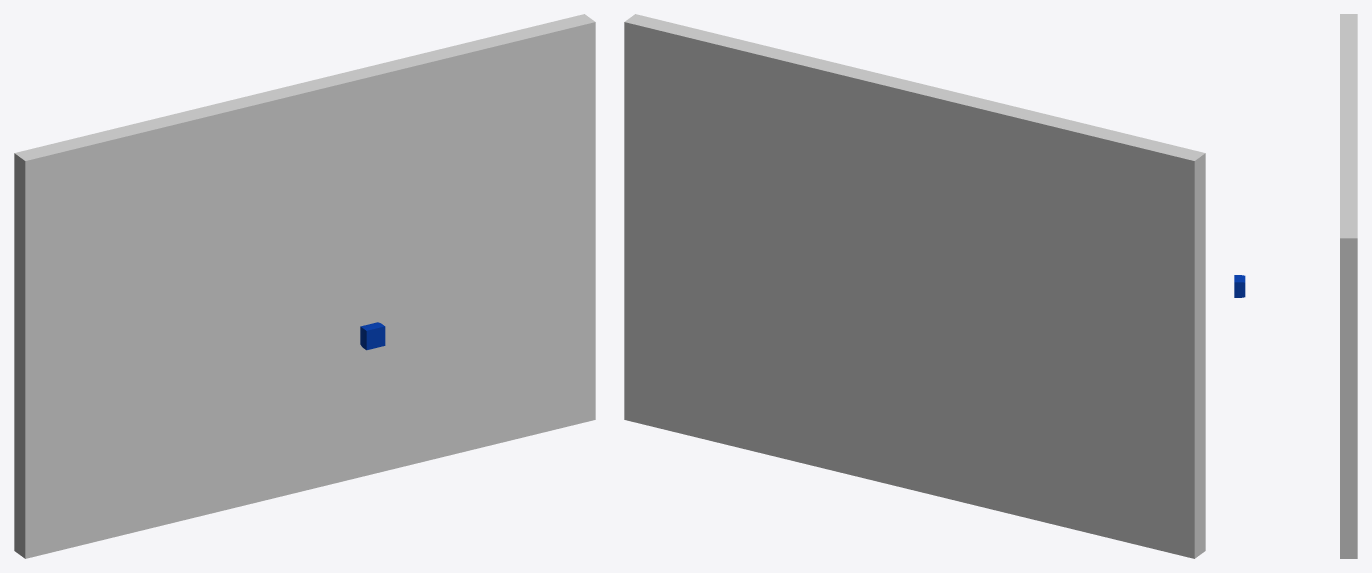
The model's file is Dashboard.gltf.
The picture shows the model from 3 angles, left to right: view 1: azimuth 30°, elevation 25°; view 2: azimuth 150°, elevation 25°; view 3: azimuth 270°, elevation 25°; orthographic projection. The views are drawn at different scales.
Visible parts, largest first — view 1: Dashboard.001; view 2: Dashboard.001; view 3: Dashboard.001, dataport.
Boxes of the visible parts, <box> form: Dashboard.001: <box>14,14,595,558</box>; Dashboard.001: <box>624,14,1205,558</box>; Dashboard.001: <box>1340,14,1357,558</box>; dataport: <box>1234,275,1245,297</box>.
Bounding box in the file's own units: 1.5 × 1 × 0.3478.
